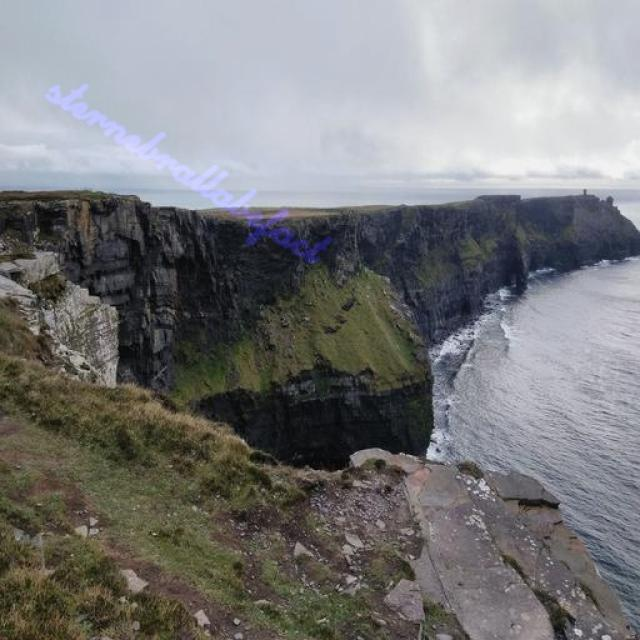watermark: (36, 64, 347, 273)
